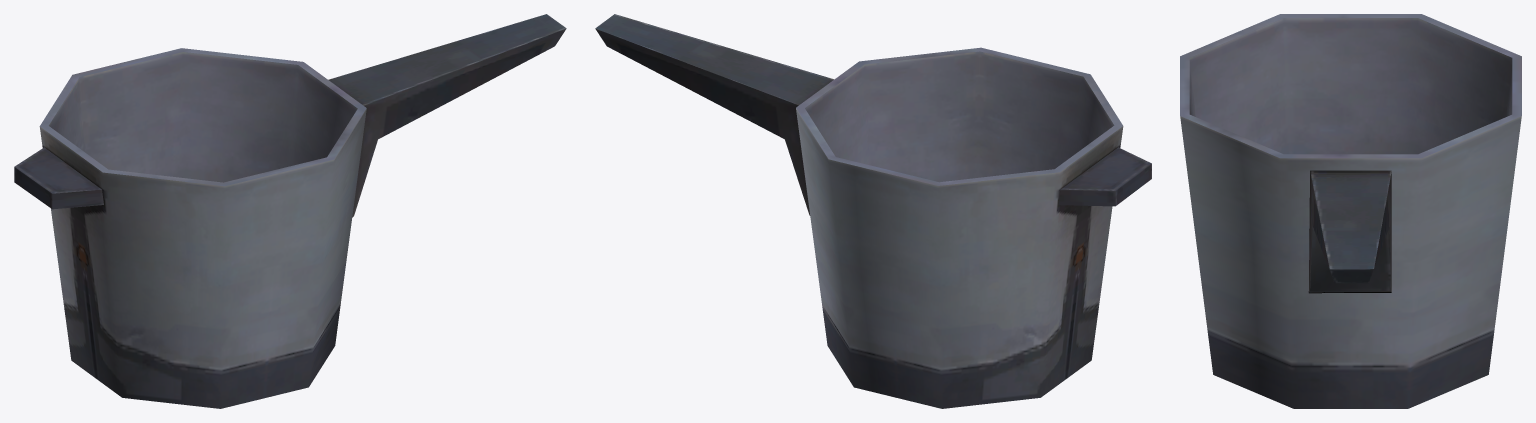
Rendered from all_item_imp_cooking_item_02.glb.
The picture shows the model from 3 angles, left to right: view 1: azimuth 30°, elevation 25°; view 2: azimuth 150°, elevation 25°; view 3: azimuth 270°, elevation 25°; orthographic projection. The views are drawn at different scales.
Parts seen in each view (by area): view 1: all_item_imp_cooking_item_02; view 2: all_item_imp_cooking_item_02; view 3: all_item_imp_cooking_item_02.
Part boxes in pixels (box(x1,y1,x2,y2)): all_item_imp_cooking_item_02: box(14, 14, 566, 408); all_item_imp_cooking_item_02: box(595, 14, 1151, 408); all_item_imp_cooking_item_02: box(1180, 14, 1521, 408).
Size of the model in its own units: 0.058 by 0.0258 by 0.0291.
1 material, 1 textured.
